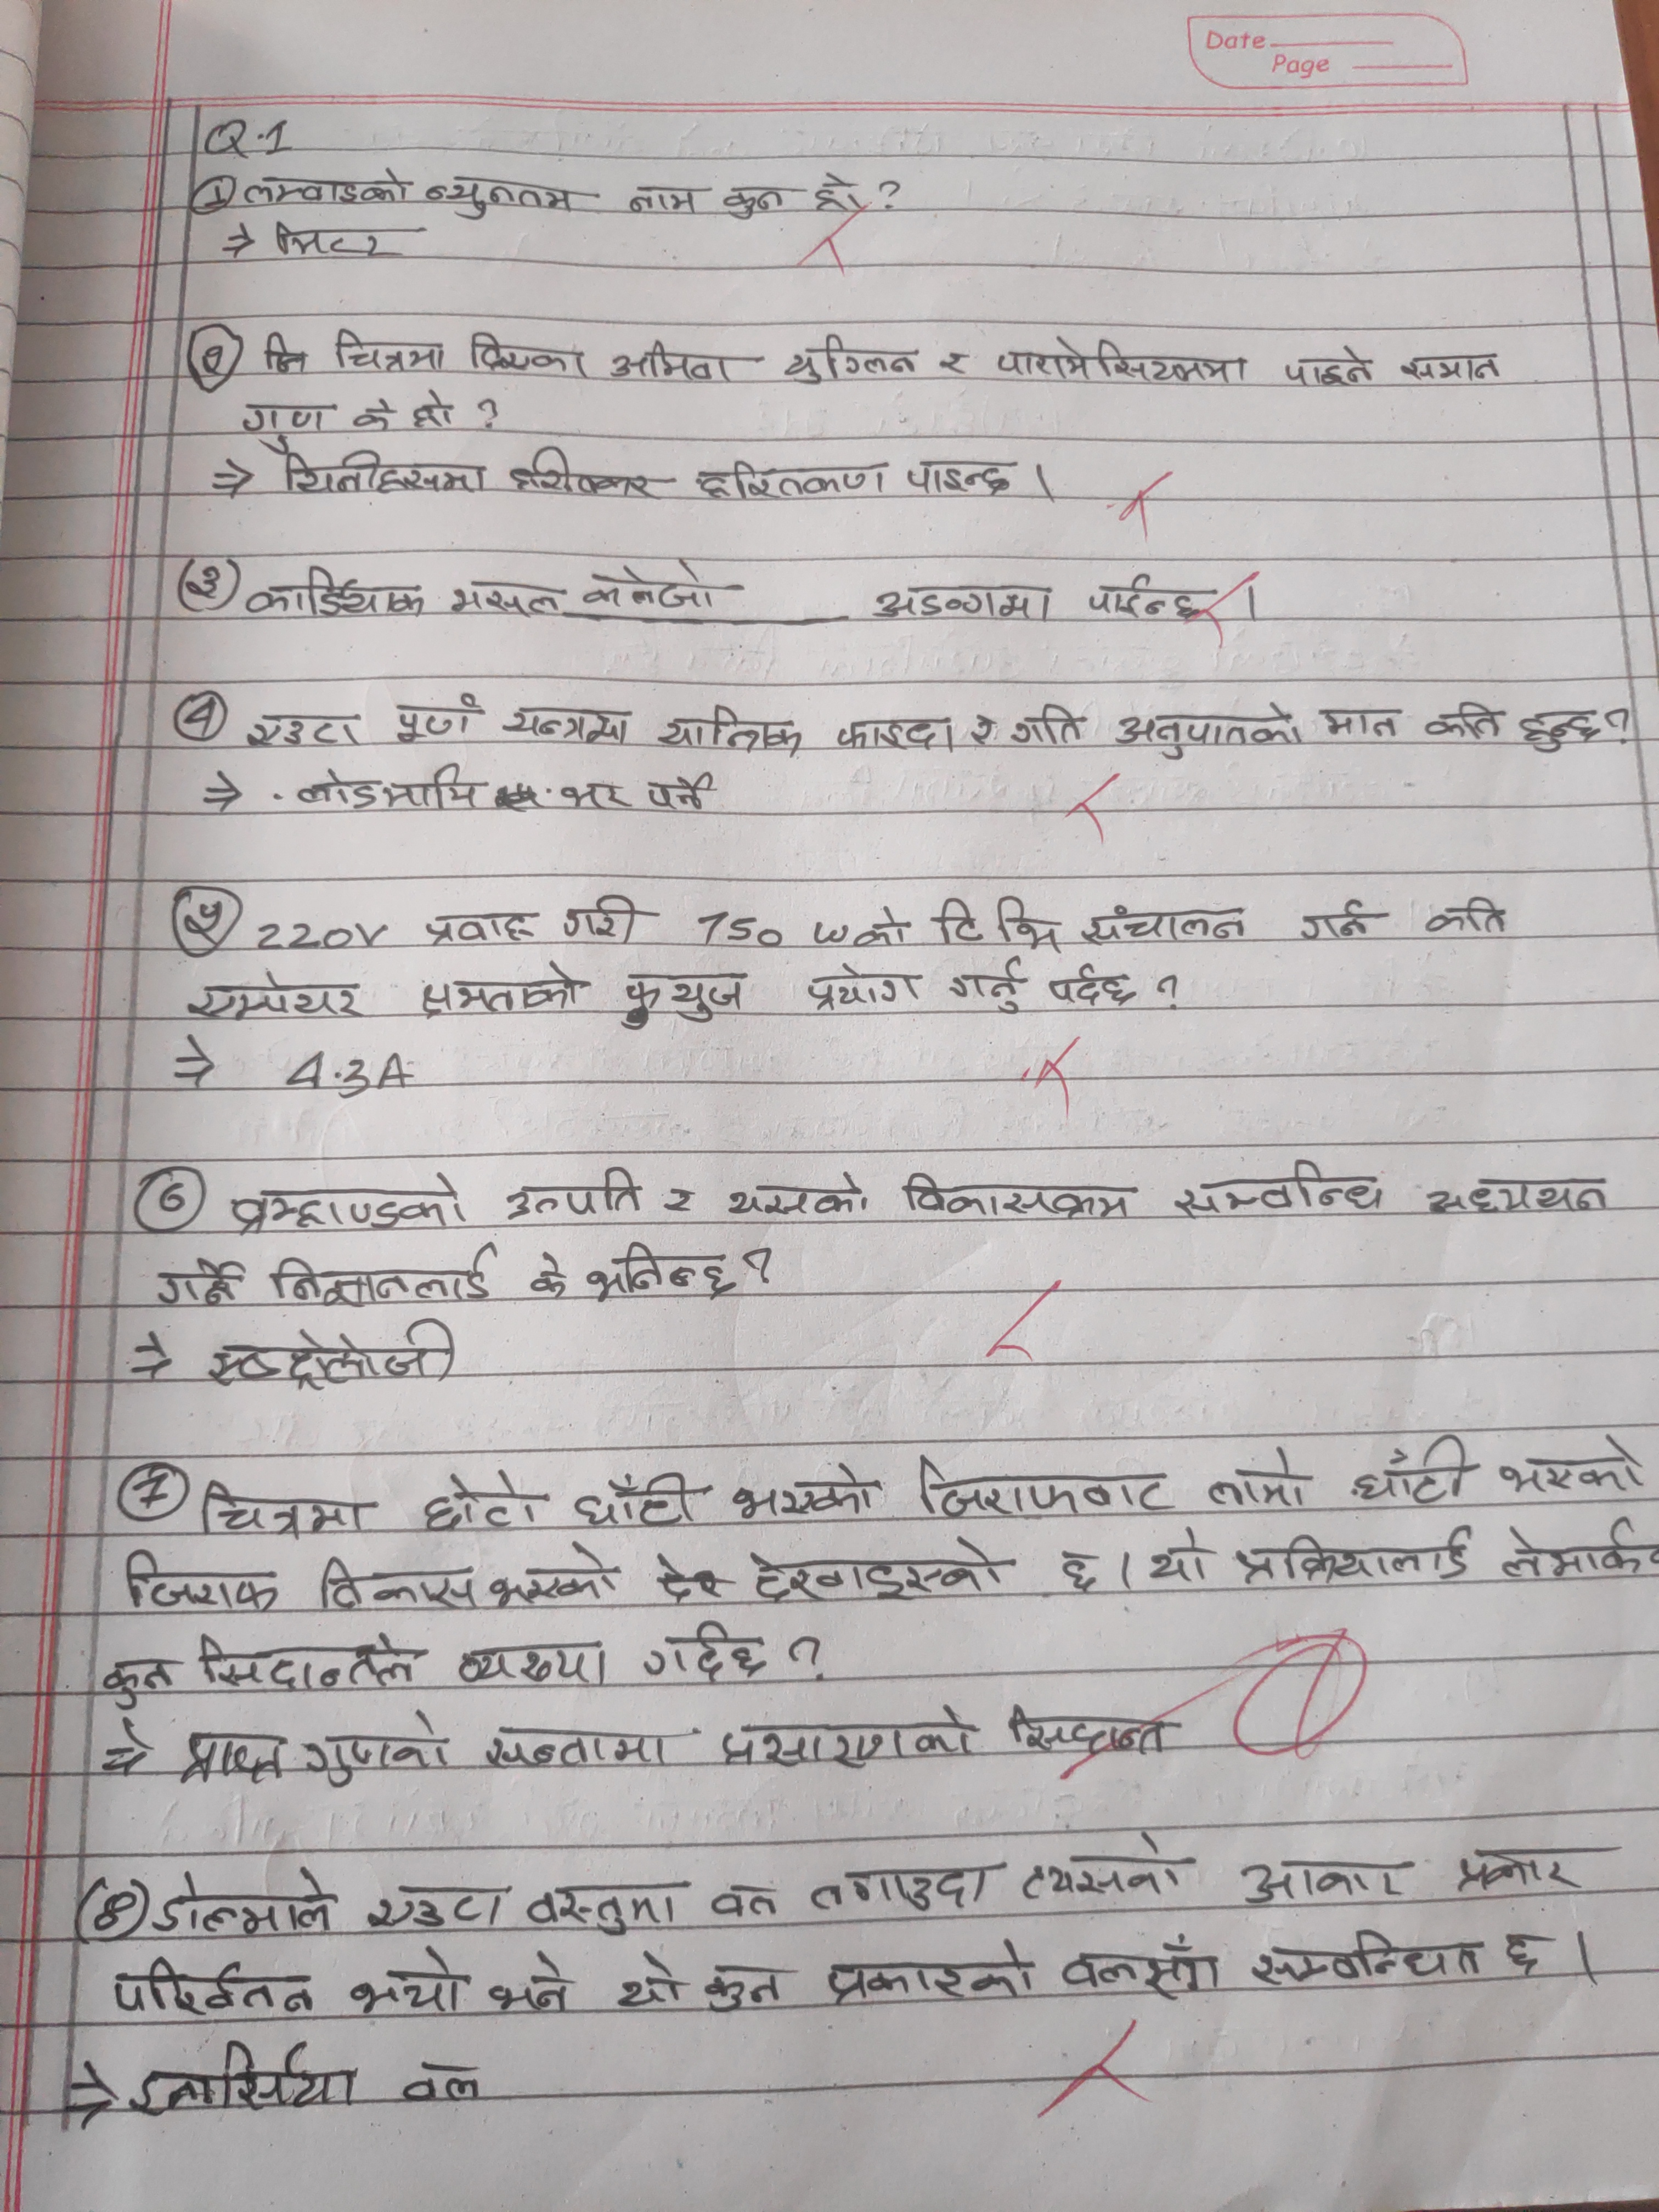text: (204, 1315, 465, 1393), (739, 1533, 1011, 1604), (124, 2040, 361, 2121), (904, 1449, 1175, 1519), (819, 1935, 1037, 2015), (716, 1703, 976, 1770), (227, 1170, 477, 1235), (267, 1244, 500, 1310), (995, 333, 1249, 392), (192, 1629, 429, 1691), (1232, 1527, 1481, 1585), (108, 1958, 319, 2026), (1173, 1158, 1389, 1224), (1019, 1827, 1187, 1907), (152, 1867, 343, 1937), (1244, 1928, 1483, 1984), (897, 1167, 1134, 1219), (301, 1707, 450, 1791), (195, 1475, 371, 1541), (242, 564, 430, 624), (119, 1547, 291, 1611), (1056, 1933, 1223, 2000), (1114, 702, 1305, 759), (807, 1860, 995, 1918), (580, 1240, 737, 1308), (312, 1555, 481, 1618), (479, 1723, 673, 1777), (1002, 1702, 1171, 1763), (1488, 1433, 1643, 1500), (281, 449, 488, 498), (697, 451, 890, 503), (293, 763, 486, 815), (418, 963, 586, 1022), (181, 968, 364, 1022), (1349, 1433, 1480, 1508), (1227, 1855, 1413, 1907), (730, 1460, 880, 1524), (1497, 1515, 1645, 1578), (457, 1630, 613, 1689), (526, 1879, 678, 1940), (1425, 1169, 1614, 1217), (504, 446, 666, 502), (490, 1538, 617, 1608), (416, 1468, 545, 1536), (345, 1949, 469, 2019), (655, 704, 805, 759), (871, 582, 1054, 627), (422, 172, 579, 225), (619, 970, 749, 1033), (645, 1618, 769, 1684), (723, 1165, 875, 1219), (1084, 902, 1253, 949), (927, 897, 1068, 953), (570, 1468, 701, 1527), (777, 333, 920, 387), (362, 1885, 514, 1935), (173, 1728, 291, 1792), (239, 167, 411, 211), (498, 1169, 645, 1219), (1448, 1839, 1579, 1895), (467, 324, 589, 383), (802, 958, 922, 1017), (599, 340, 735, 392), (580, 561, 716, 613), (1204, 1444, 1309, 1508), (1087, 573, 1208, 627), (498, 700, 638, 745), (268, 218, 401, 265), (486, 1949, 577, 2017), (232, 394, 329, 455), (329, 326, 450, 374), (901, 453, 1021, 500), (145, 1256, 247, 1310), (401, 2060, 509, 2111), (701, 1959, 795, 2017), (941, 954, 1025, 1019), (389, 690, 479, 749), (1044, 960, 1140, 1015), (422, 906, 533, 953), (836, 712, 960, 754), (444, 580, 561, 624), (1281, 343, 1384, 392), (1143, 1527, 1218, 1594), (246, 711, 368, 751), (1399, 348, 1507, 392), (617, 1949, 687, 2015), (1520, 700, 1605, 754), (558, 895, 643, 949), (98, 1656, 179, 1712), (1420, 895, 1511, 941), (706, 1874, 784, 1926), (1004, 702, 1086, 751), (554, 775, 633, 820), (1422, 700, 1506, 742), (620, 176, 699, 219), (1298, 895, 1370, 942), (643, 775, 716, 820), (1493, 1925, 1554, 1979), (1051, 1543, 1105, 1602), (1316, 704, 1401, 740), (810, 169, 870, 221), (523, 1242, 573, 1299), (850, 909, 910, 954), (720, 181, 786, 221), (408, 387, 460, 434), (350, 394, 396, 435), (662, 1181, 702, 1223), (964, 711, 1002, 754), (934, 345, 971, 381)
